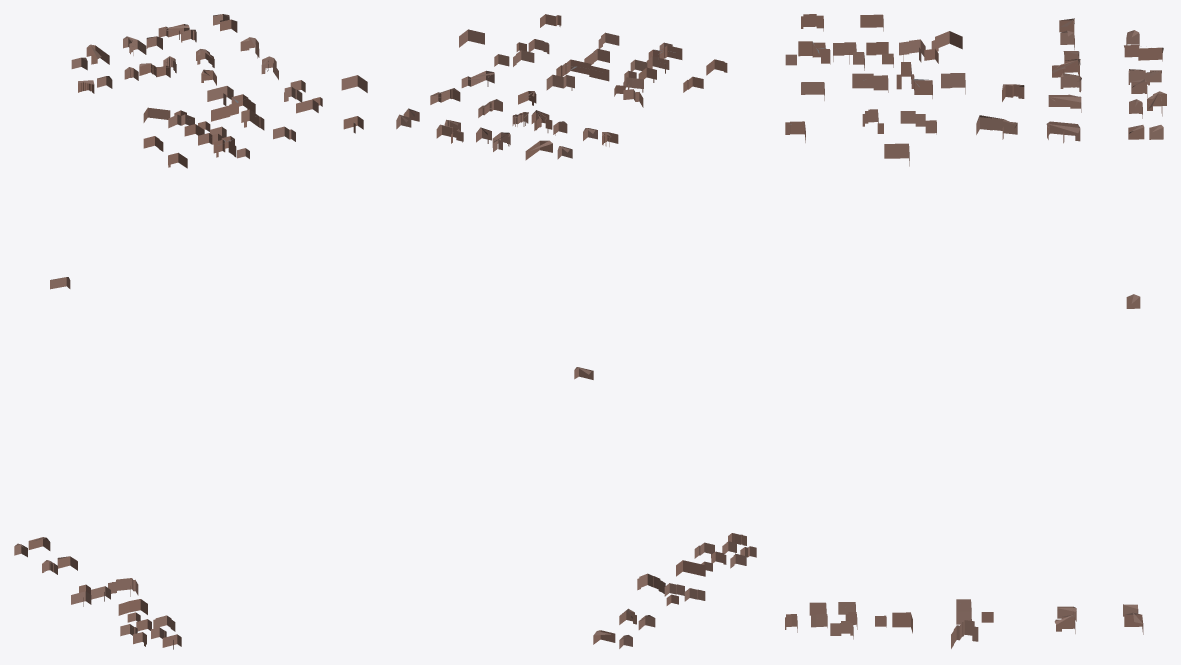
Rendered from c_1638_17835_buildings_residential.glb.
3 views of the same model, side by side, from view 1: azimuth 30°, elevation 25°; view 2: azimuth 150°, elevation 25°; view 3: azimuth 270°, elevation 25° (orthographic). The views are drawn at different scales.
Parts seen in each view (by area): view 1: geometry_0; view 2: geometry_0; view 3: geometry_0.
Part boxes in pixels (x1,y1,x2,y2): geometry_0: [14, 14, 367, 649]; geometry_0: [396, 14, 756, 648]; geometry_0: [785, 14, 1166, 648].
Bounding box in the file's own units: 266 × 466 × 259.
